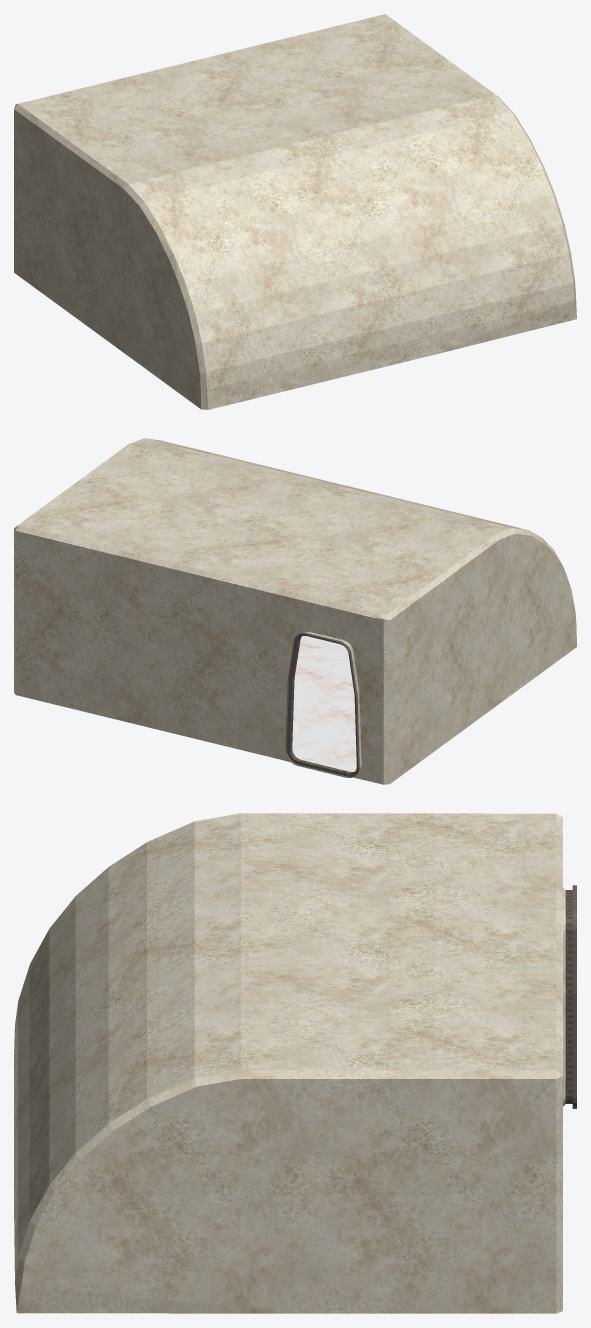
The model's file is ply_tato_assoc_hall_civ_s02_r19_bedroom6_mesh_r19.fbx.
The picture shows the model from 3 angles, top to bottom: view 1: azimuth 30°, elevation 25°; view 2: azimuth 150°, elevation 25°; view 3: azimuth 270°, elevation 25°; orthographic projection. The views are drawn at different scales.
Visible parts, largest first — view 1: mesh_node; view 2: mesh_node; view 3: mesh_node.
Part boxes in pixels (x1,y1,x2,y2): mesh_node: [14, 14, 576, 409]; mesh_node: [14, 438, 576, 784]; mesh_node: [14, 813, 576, 1313].
Bounding box in the file's own units: 9.37 × 4.01 × 8.49.
